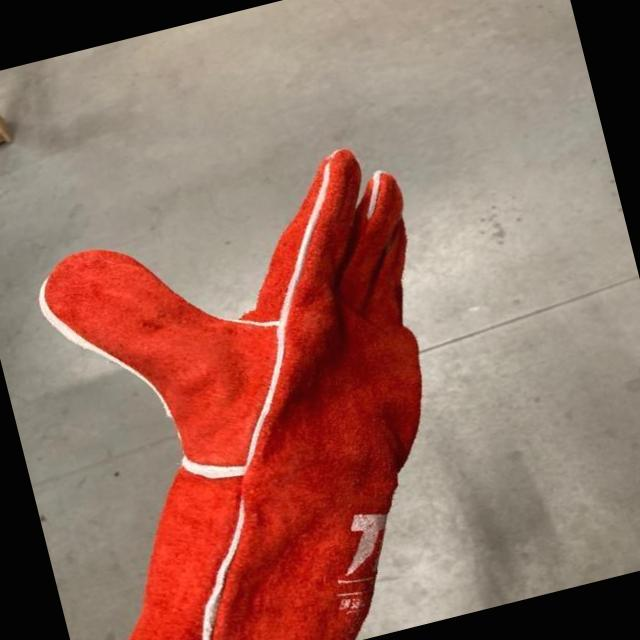gloves: (10, 131, 505, 640)
